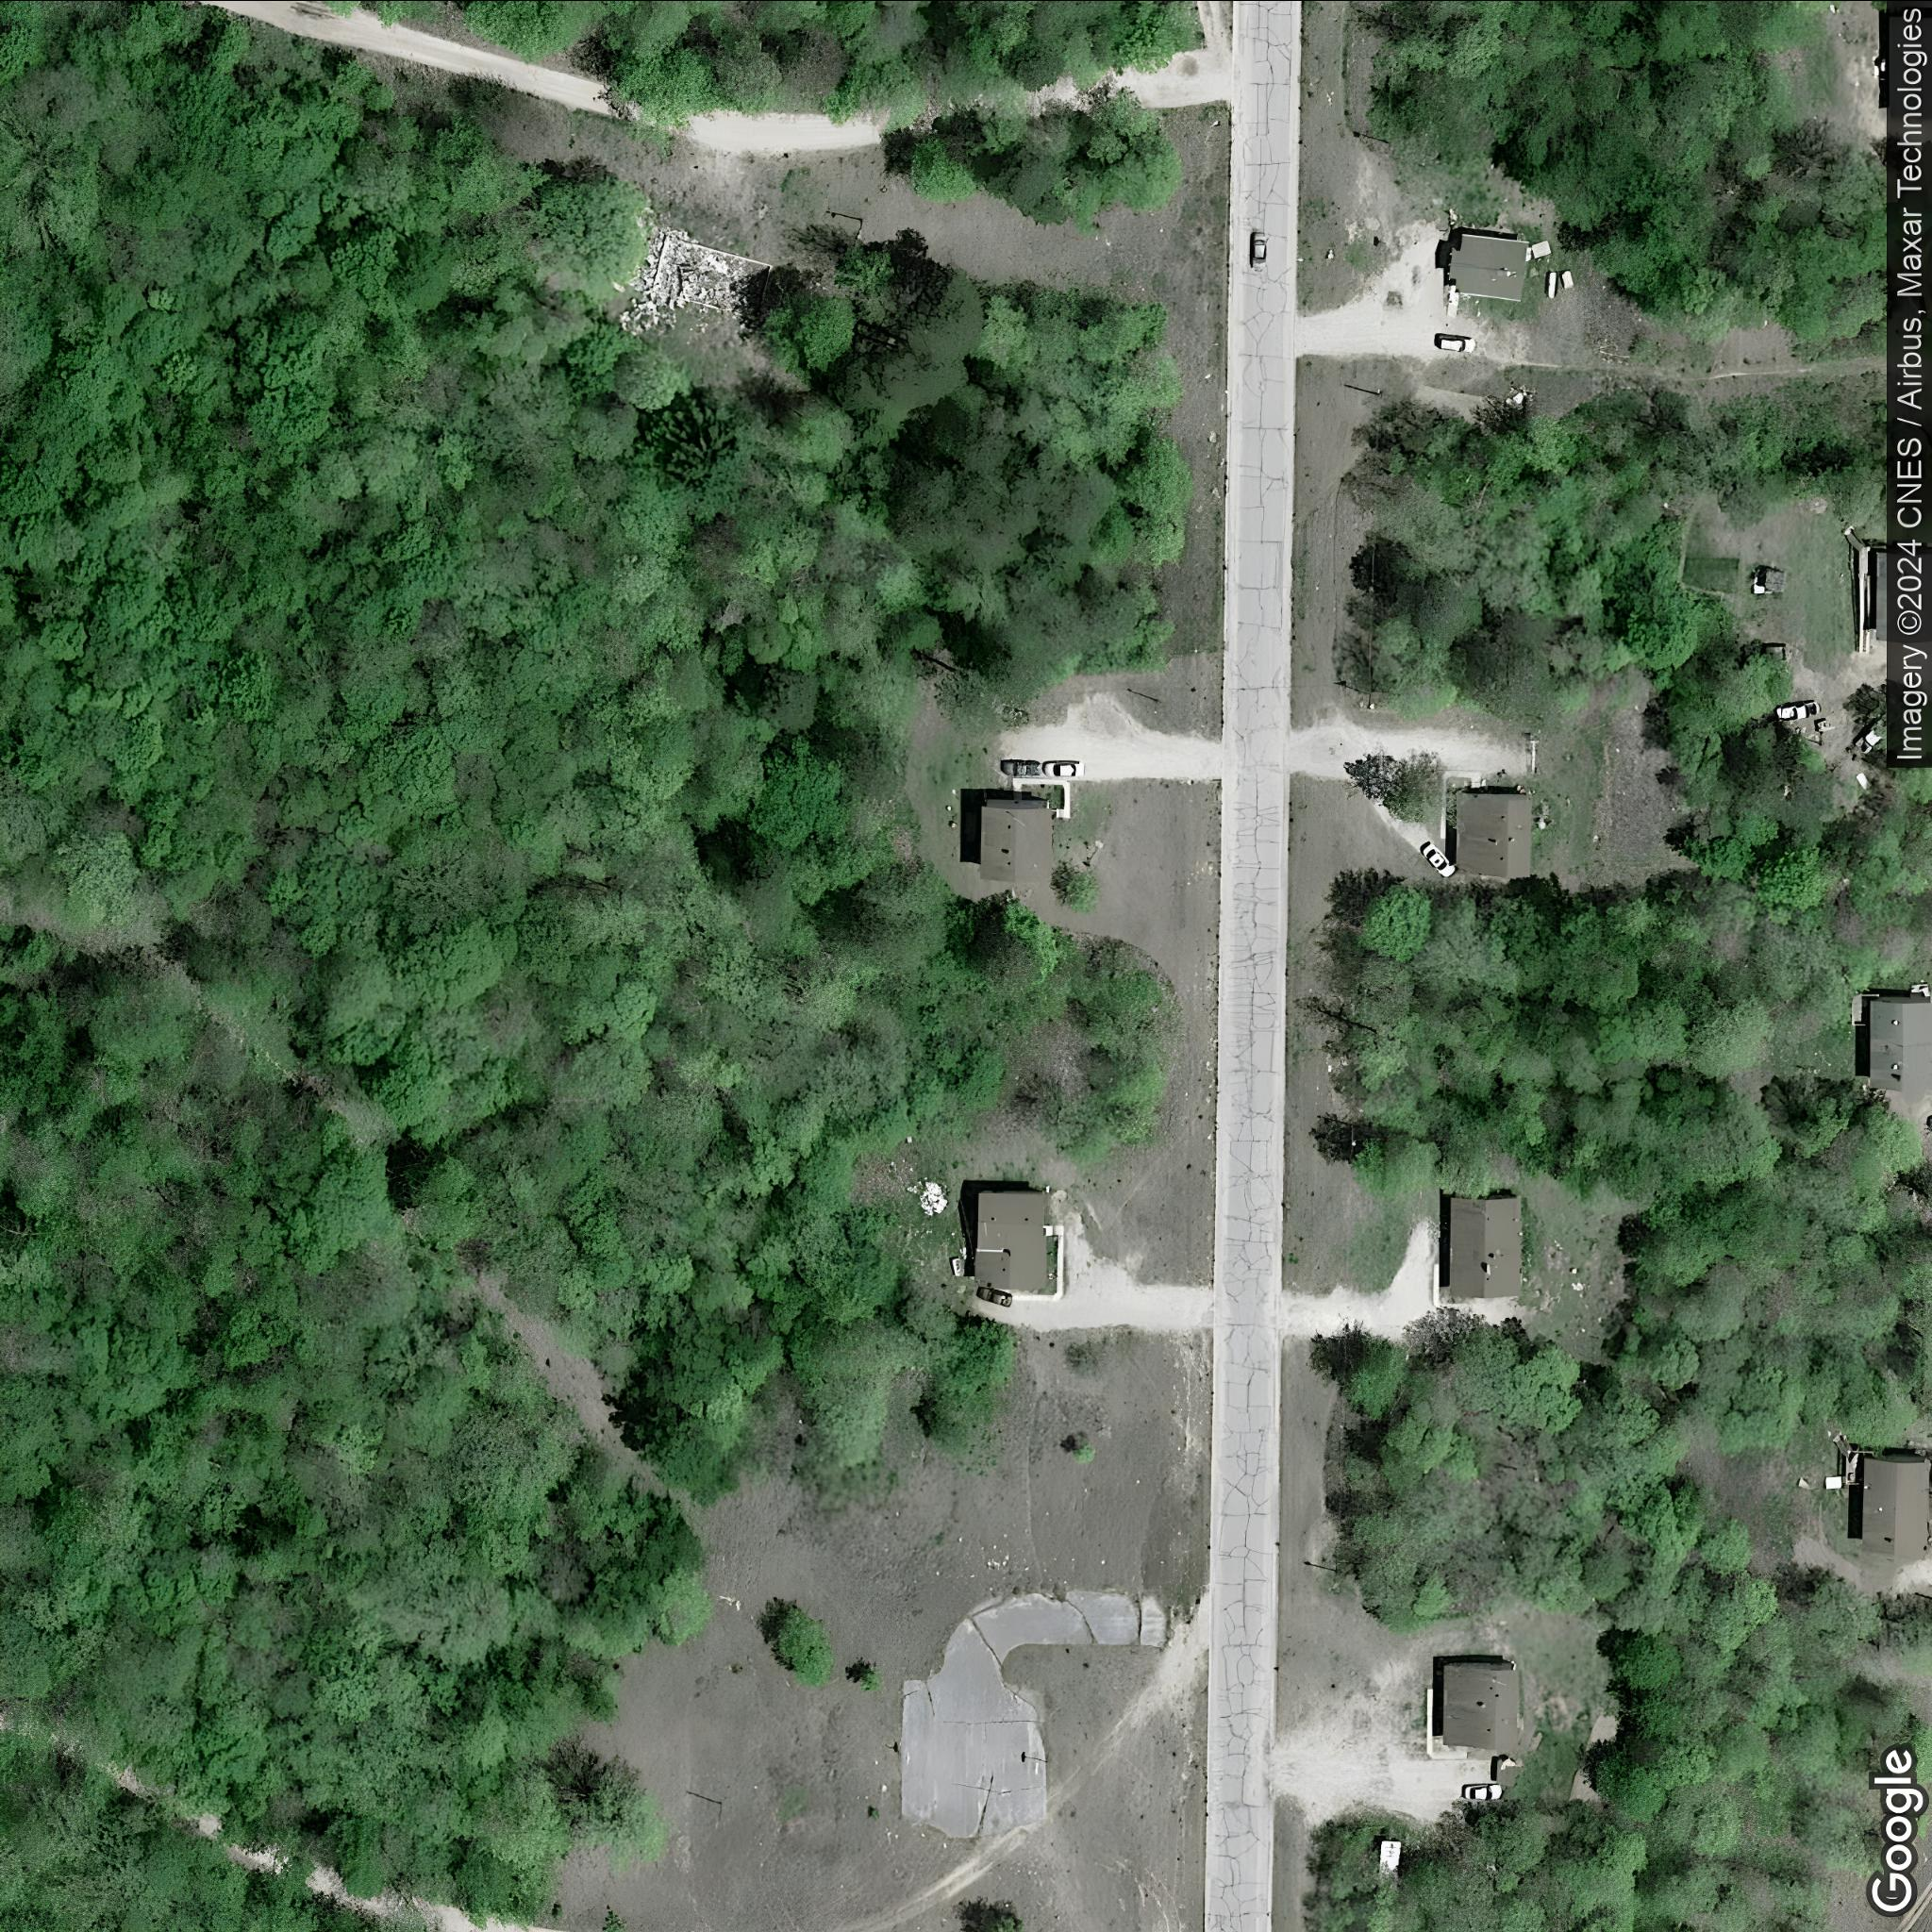House: (1451, 1192, 1522, 1300), (1861, 1453, 1928, 1559), (977, 1191, 1049, 1288), (1444, 1663, 1520, 1750), (1456, 793, 1532, 879), (980, 798, 1054, 885), (1868, 994, 1932, 1092), (1447, 234, 1529, 299), (1872, 545, 1884, 639)
Propane: (1545, 269, 1557, 299)
